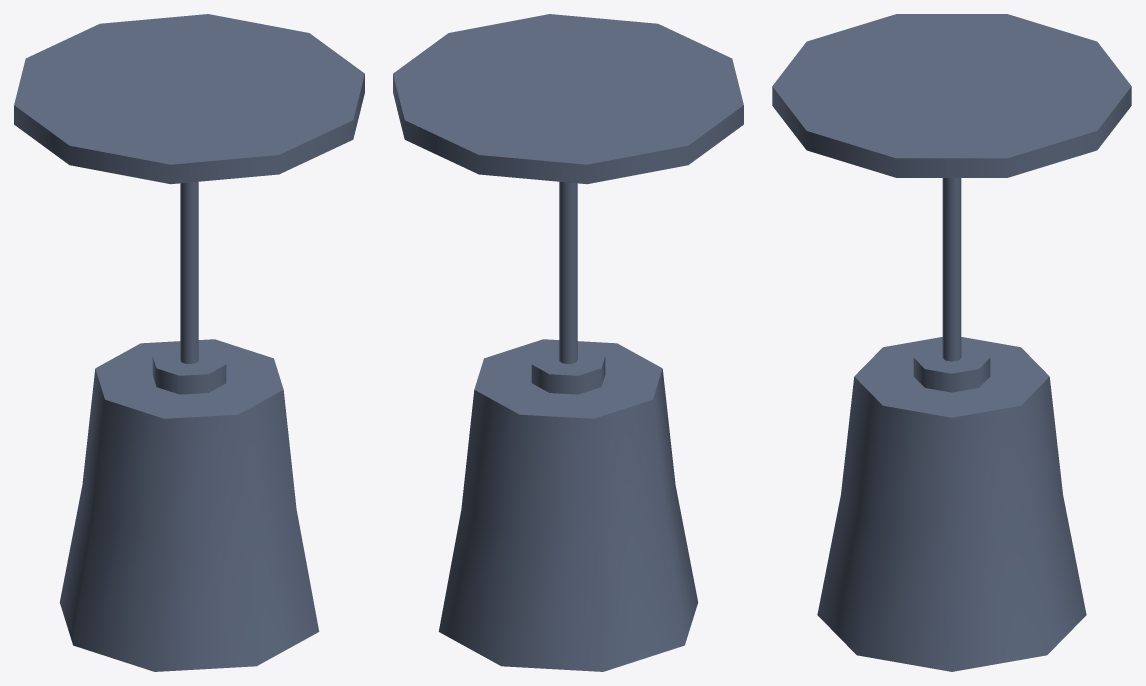
Rendered from Light_CeilingSingle.glb.
3 renders of one model, left to right at view 1: azimuth 30°, elevation 25°; view 2: azimuth 150°, elevation 25°; view 3: azimuth 270°, elevation 25°, orthographic.
Visible parts, largest first — view 1: Light_CeilingSingle; view 2: Light_CeilingSingle; view 3: Light_CeilingSingle.
Boxes of the visible parts, left/top/right/bottom form: Light_CeilingSingle: left=14, top=14, right=364, bottom=671; Light_CeilingSingle: left=393, top=14, right=743, bottom=671; Light_CeilingSingle: left=772, top=14, right=1131, bottom=671.
Size of the model in its own units: 0.2642 by 0.4784 by 0.2778.
